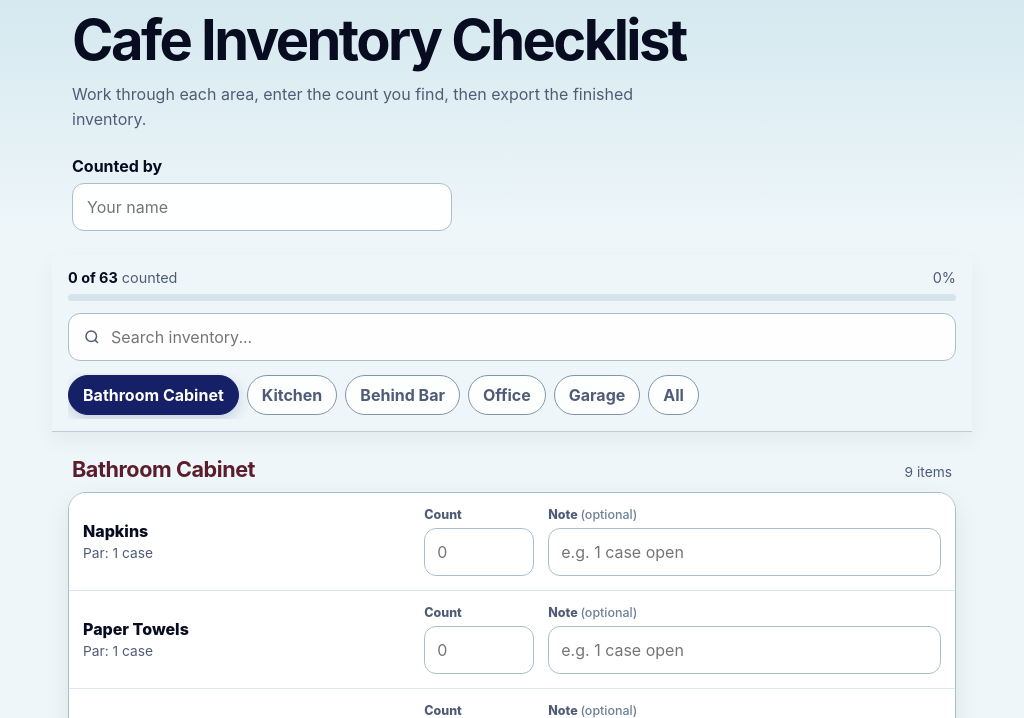
it: App › offers summary actions on review
In the number field named "Napkins count": {"x": 479, "y": 552} [424,528,534,576], type "1"
(page scrolled)
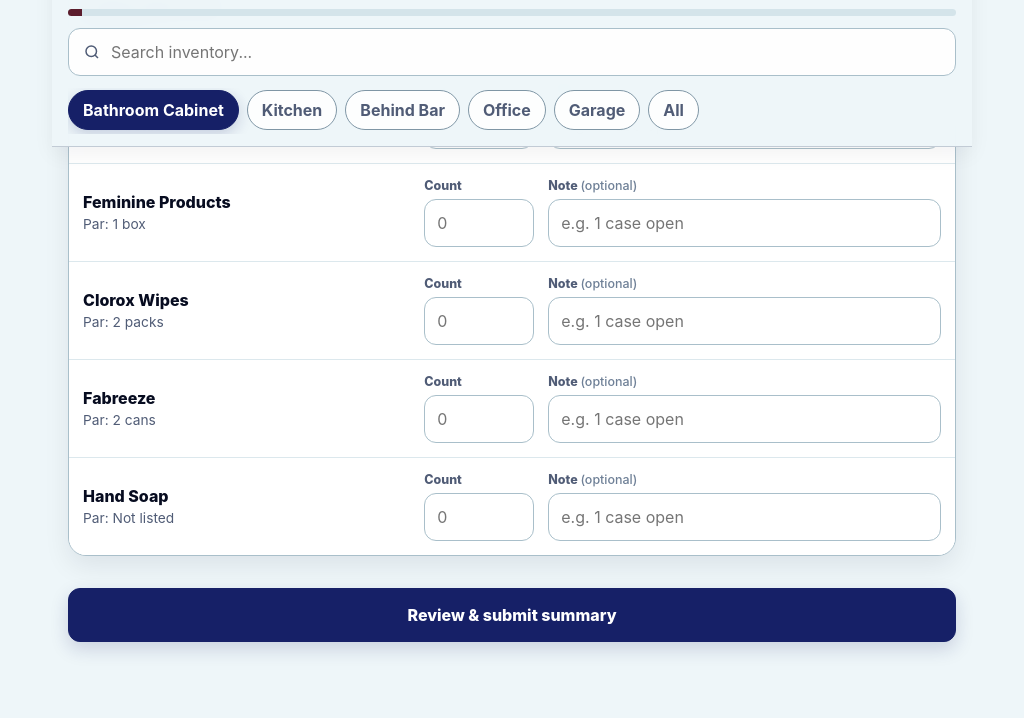
Click the button "Review & submit summary": {"x": 512, "y": 615} [68,588,956,642]
(page scrolled)
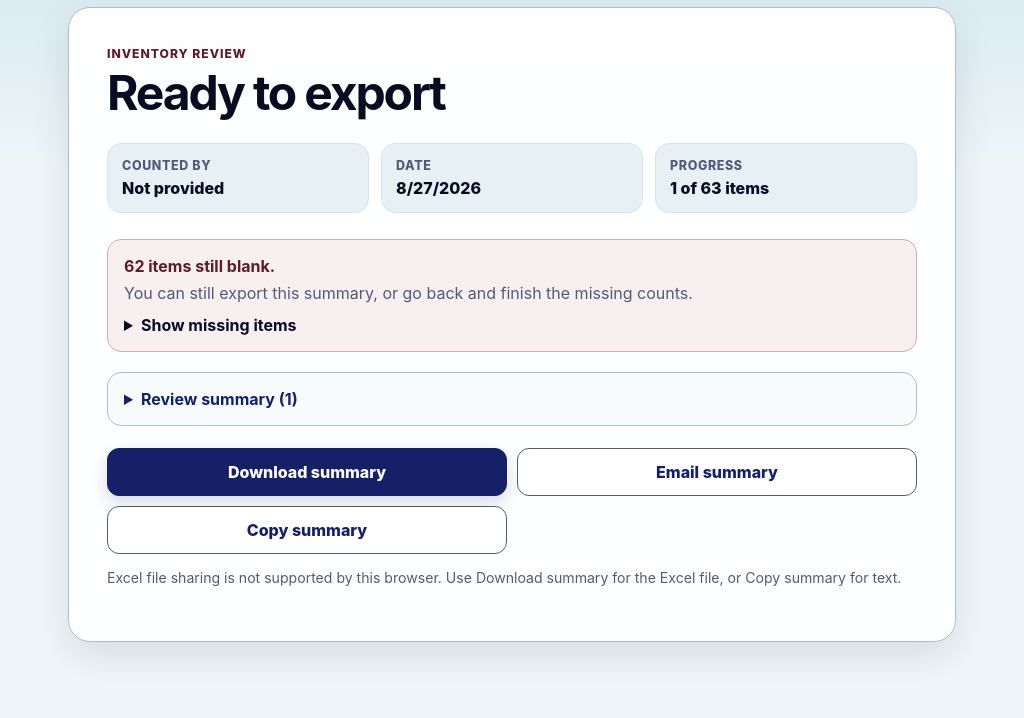
Check: the button "Download summary" is shown, box [107,448,507,496]
Check: the button "Email summary" is shown, box [517,448,917,496]
Check: the button "Copy summary" is shown, box [107,506,507,554]
